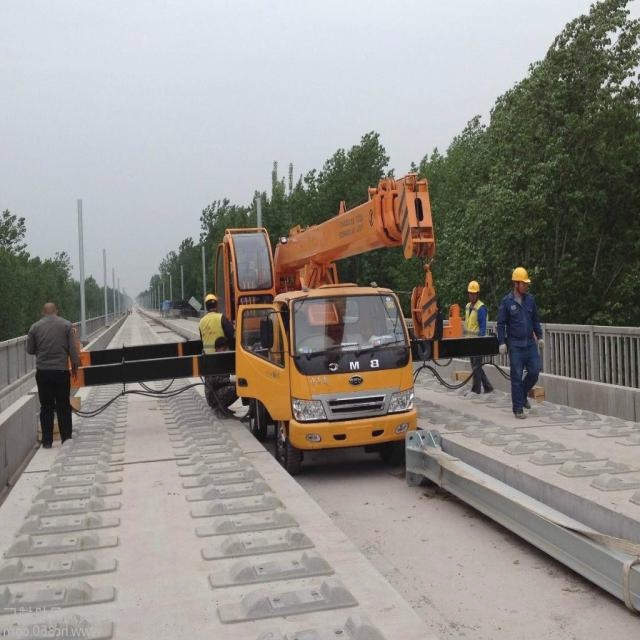Con_Casco: (512, 267, 532, 290), (204, 292, 218, 312)
Sin_Casco_Mascarrilla: (43, 301, 58, 316)
Sin_Chaleco: (31, 316, 67, 376), (498, 295, 538, 346)
